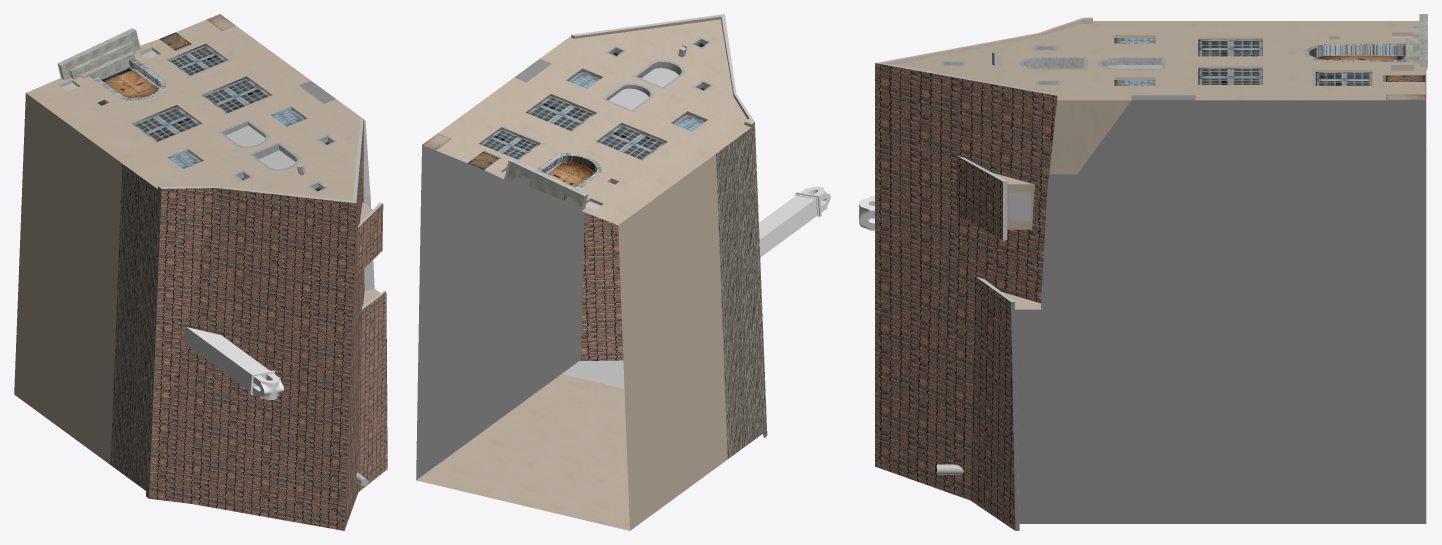
Rendered from Tolli_3.obj.
3 renders of one model, left to right at view 1: azimuth 30°, elevation 25°; view 2: azimuth 150°, elevation 25°; view 3: azimuth 270°, elevation 25°, orthographic. The views are drawn at different scales.
Visible parts, largest first — view 1: Tolli_3; view 2: Tolli_3; view 3: Tolli_3.
Part boxes in pixels (bbox=[...]): Tolli_3: bbox=[14, 14, 387, 530]; Tolli_3: bbox=[416, 14, 830, 530]; Tolli_3: bbox=[859, 14, 1427, 530].
Bounding box in the file's own units: 9.39 × 15.43 × 17.29.
